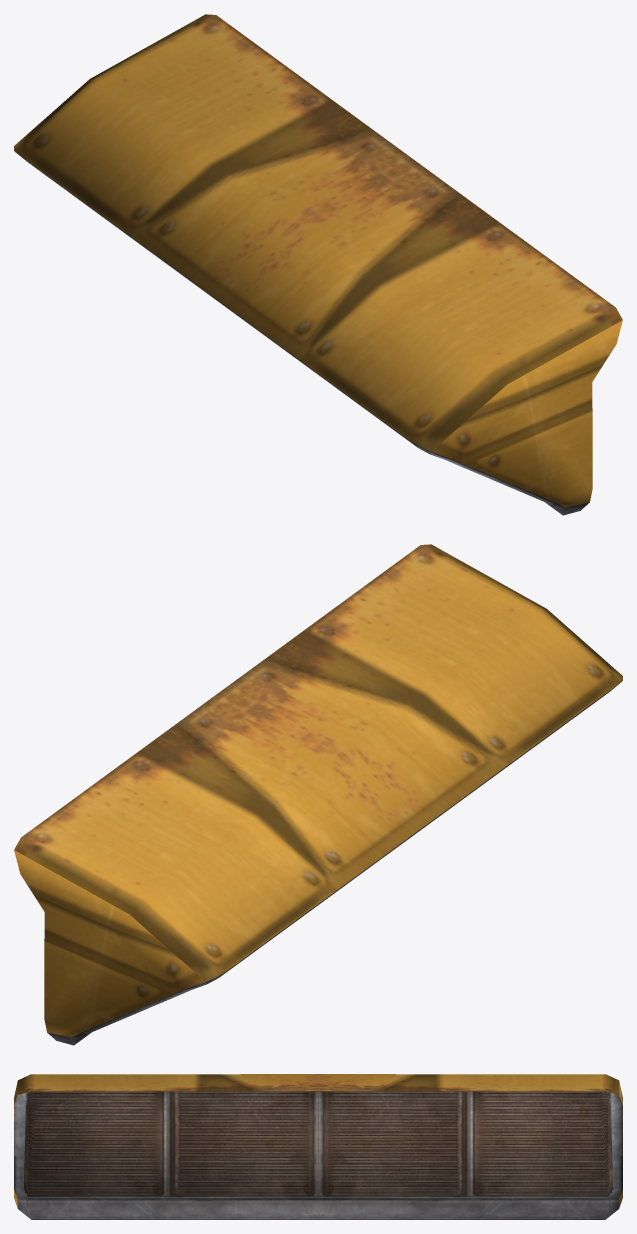
The model's file is EQP_VentDown.FBX.
The picture shows the model from 3 angles, top to bottom: view 1: azimuth 30°, elevation 25°; view 2: azimuth 150°, elevation 25°; view 3: azimuth 270°, elevation 25°; orthographic projection. The views are drawn at different scales.
Visible parts, largest first — view 1: EQP_VentDown; view 2: EQP_VentDown; view 3: EQP_VentDown.
Part boxes in pixels (left/top/right/bottom): EQP_VentDown: left=14, top=14, right=622, bottom=515; EQP_VentDown: left=14, top=544, right=622, bottom=1045; EQP_VentDown: left=14, top=1074, right=622, bottom=1219.
Bounding box in the file's own units: 57.75 × 53.27 × 209.
1 material, 1 textured.
